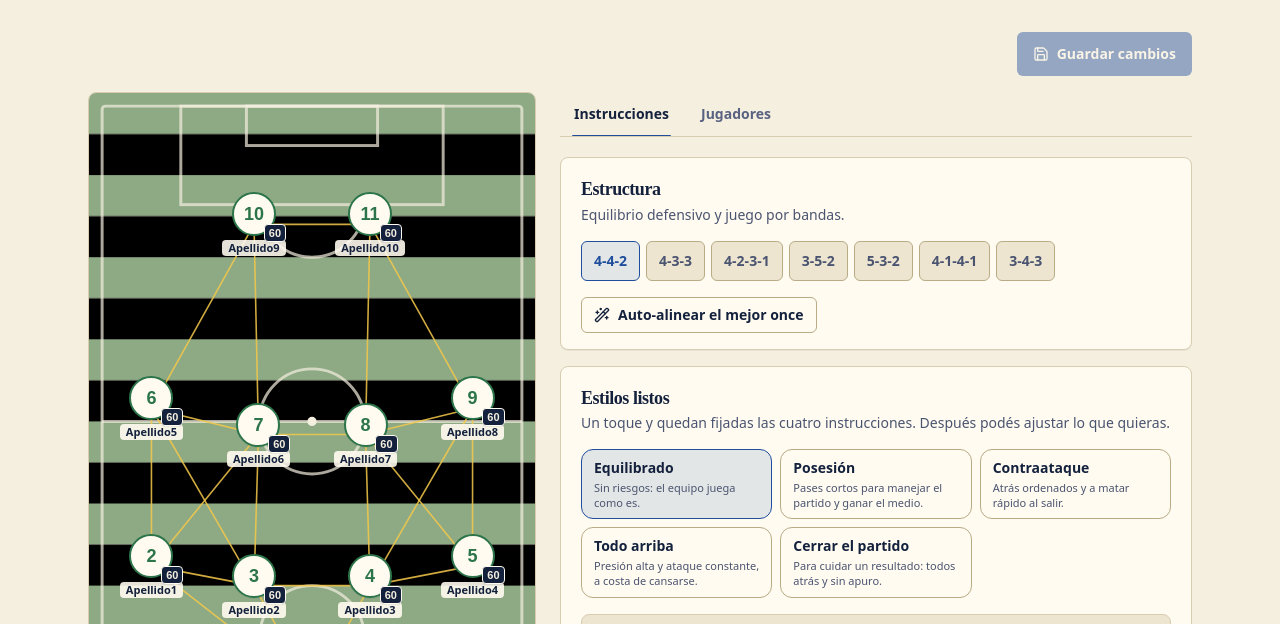
Test: pizarra con alineación libre › mover una ficha pasa a alineación libre, muestra el esquema y se puede guardar
Later steps or results of the test are not shown.
Click the button with aria-label "MI: Nombre5" at (151,408), box [111,376,191,440]
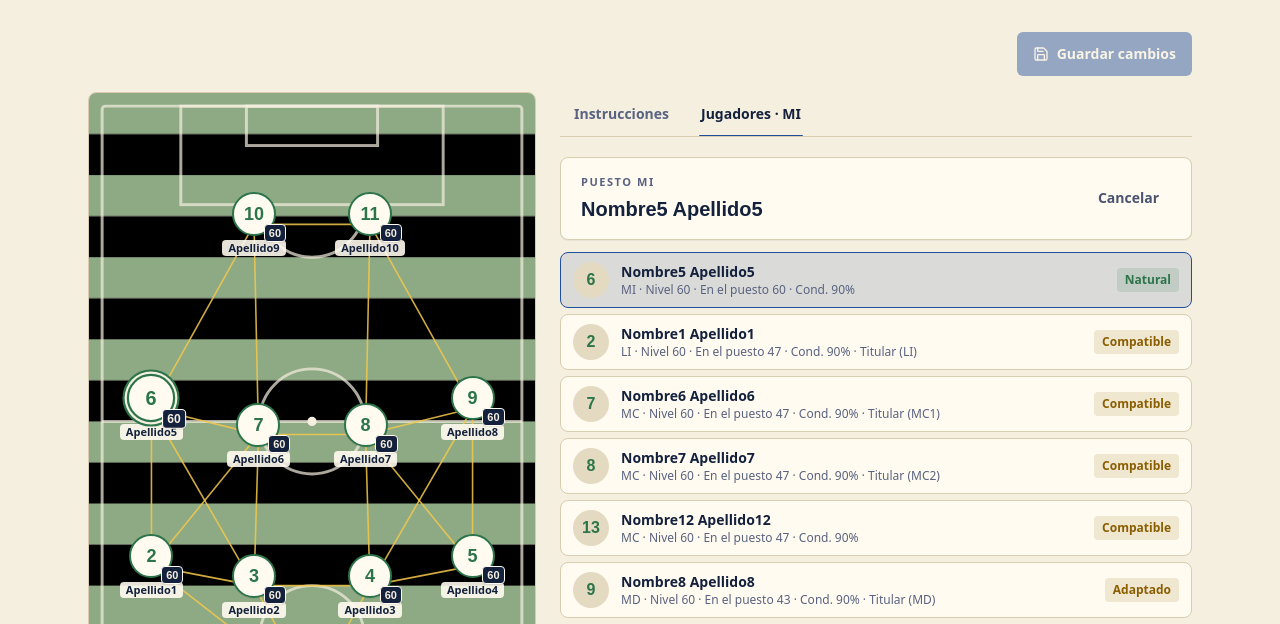
Now the button "6 60 Apellido5" is shown, box [111,376,191,440]
